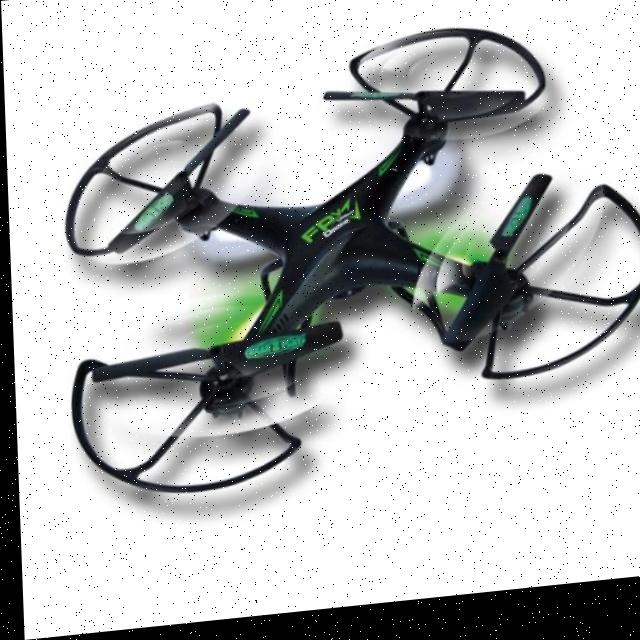drones: (38, 0, 640, 514)
